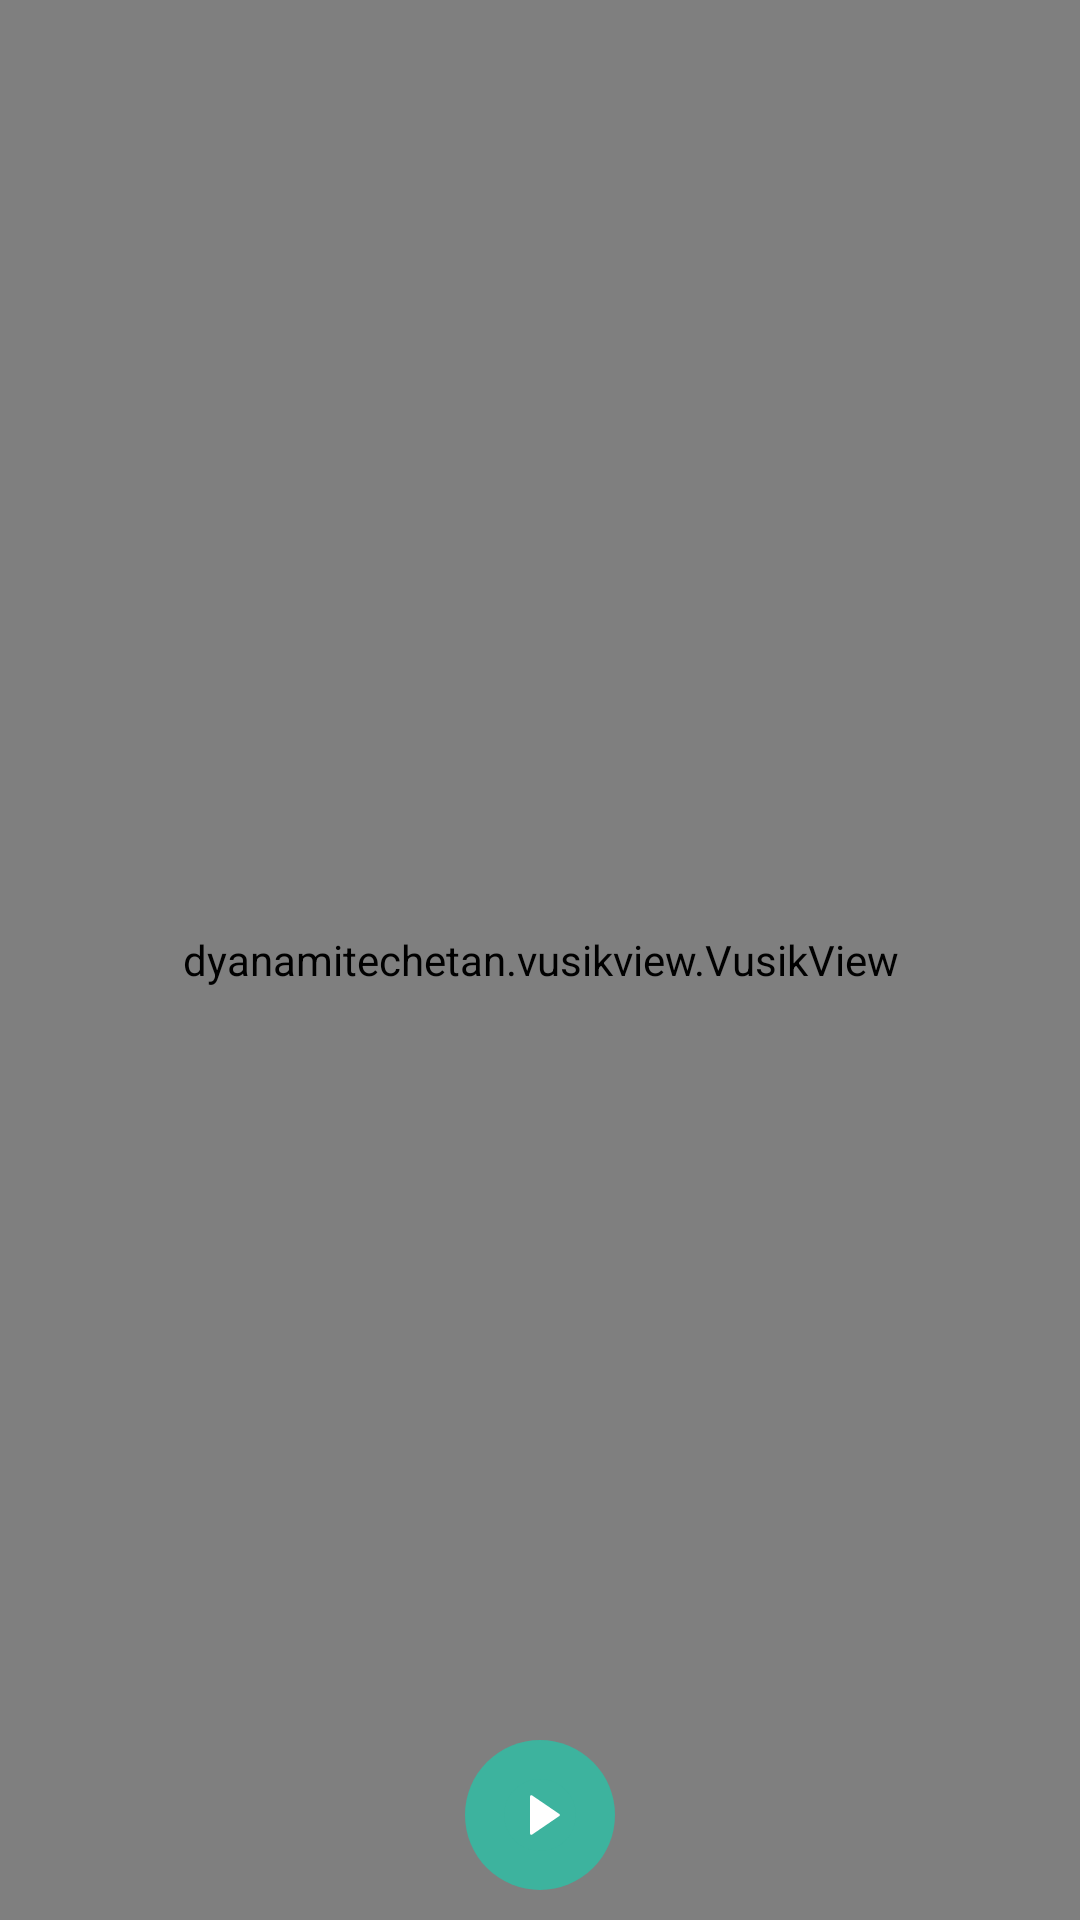

Where icons sit on this 1080x1920 app screen, as Rect(x1, y1, x2, y2):
play: Rect(465, 1740, 615, 1890)
